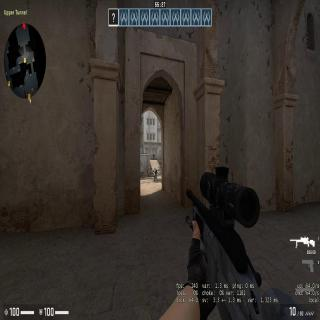CT-Body: (152, 168, 158, 180), (152, 154, 154, 160)
CT-Head: (154, 168, 156, 170), (153, 154, 154, 154)
